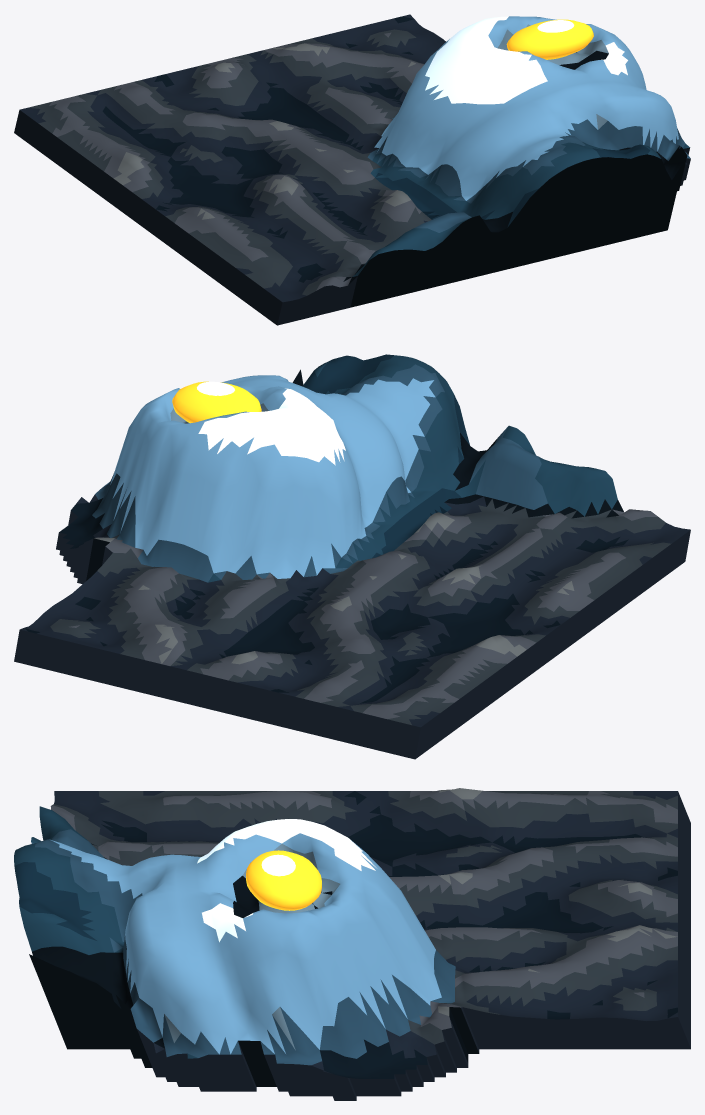
The model's file is gyges_lurker_tl_13.glb.
The picture shows the model from 3 angles, top to bottom: view 1: azimuth 30°, elevation 25°; view 2: azimuth 150°, elevation 25°; view 3: azimuth 270°, elevation 25°; orthographic projection. The views are drawn at different scales.
Visible parts, largest first — view 1: gyges_lurker_tl_13; view 2: gyges_lurker_tl_13; view 3: gyges_lurker_tl_13.
Part boxes in pixels (<box>): gyges_lurker_tl_13: <box>14,14,690,325</box>; gyges_lurker_tl_13: <box>14,354,690,759</box>; gyges_lurker_tl_13: <box>14,788,690,1100</box>.
Bounding box in the file's own units: 29.5 × 8.66 × 30.39.
